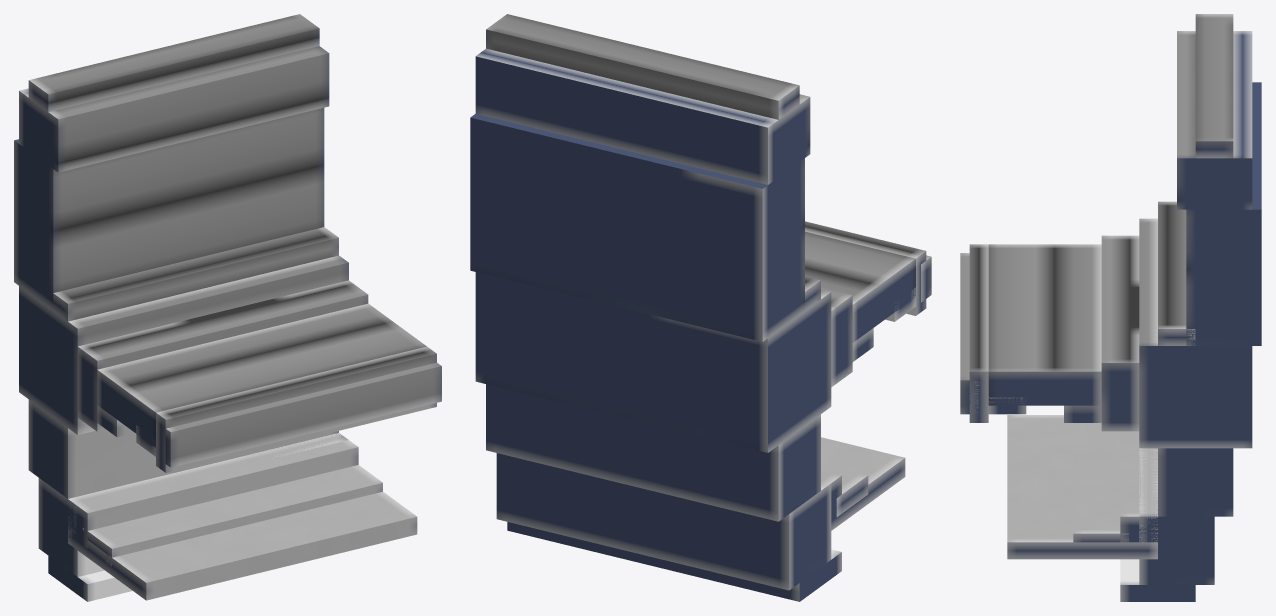
File: chair.obj
3 renders of one model, left to right at view 1: azimuth 30°, elevation 25°; view 2: azimuth 150°, elevation 25°; view 3: azimuth 270°, elevation 25°, orthographic. The views are drawn at different scales.
Parts seen in each view (by area): view 1: toyotachair; view 2: toyotachair; view 3: toyotachair.
Part boxes in pixels (x1,y1,x2,y2): toyotachair: (14,14,441,601); toyotachair: (470,14,931,601); toyotachair: (960,14,1261,601).
Bounding box in the file's own units: 1 × 1.69 × 1.
